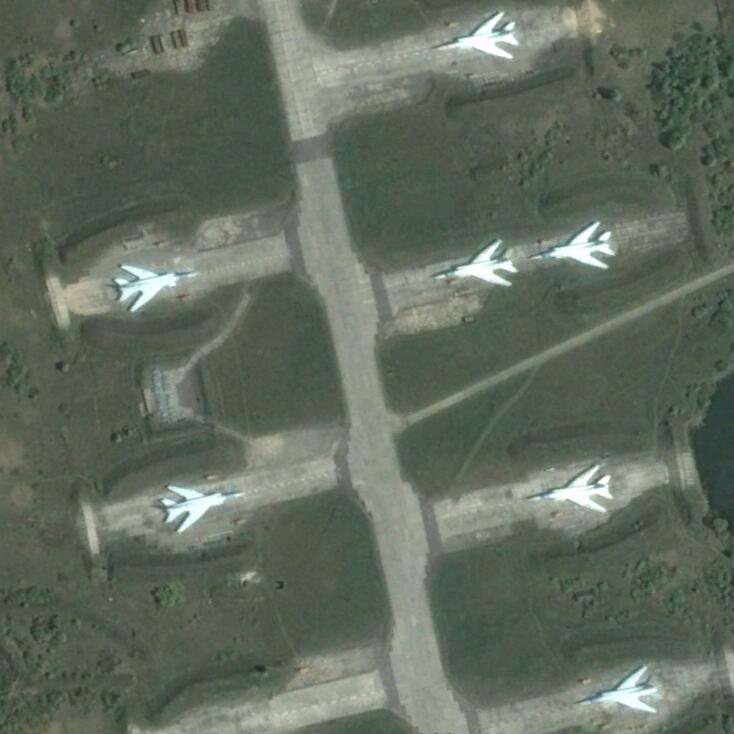A12: (111, 260, 202, 315), (521, 460, 612, 515), (526, 217, 616, 271), (575, 660, 660, 717), (159, 479, 245, 535), (430, 10, 520, 61), (431, 237, 518, 287)
